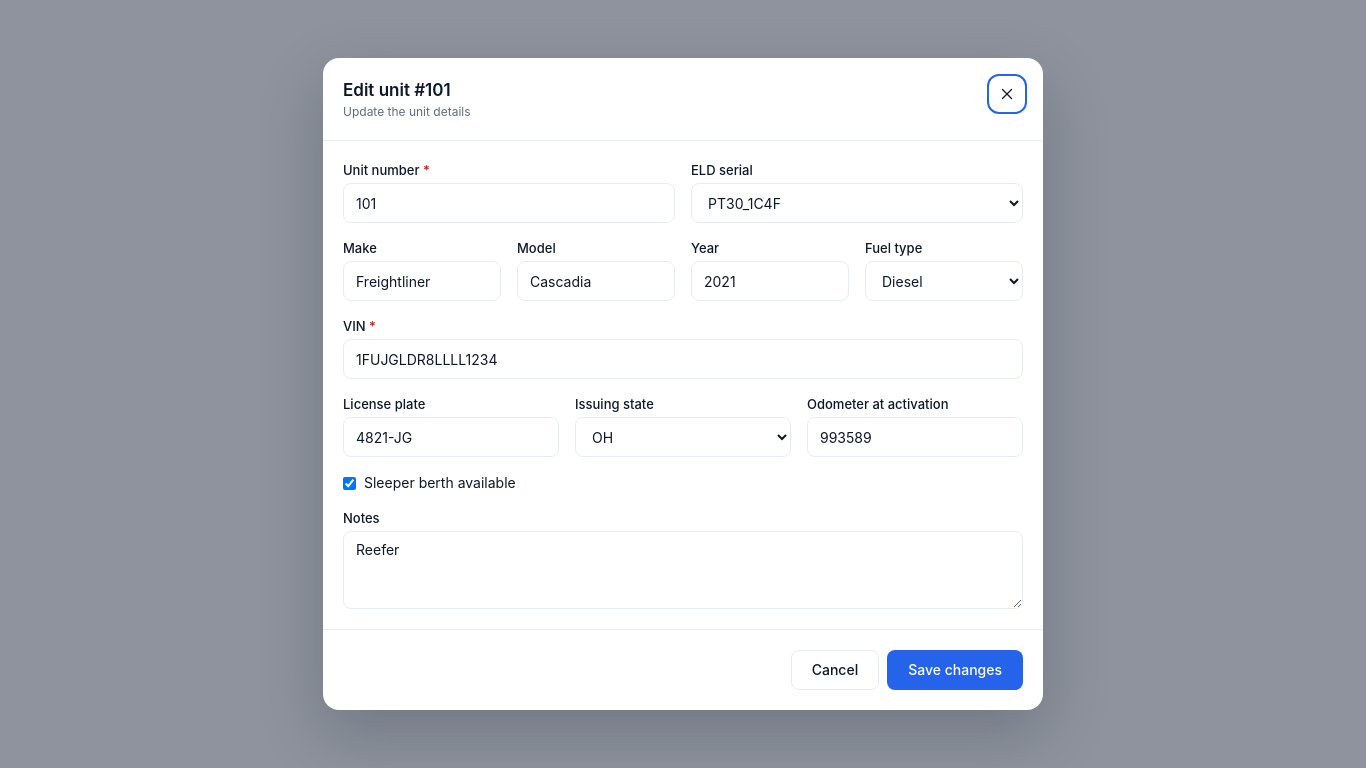
Test case: 11.2 Edit unit — clearing optional fields › sends null for a cleared plate, issuing state, notes and ELD serial
The image size is (1366, 768).
Expected: the dropdown labelled "ELD serial" shows "PT30_1C4F", [691,183,1023,223]
Clear the field labelled "License plate": (451,437) [343,417,559,457]
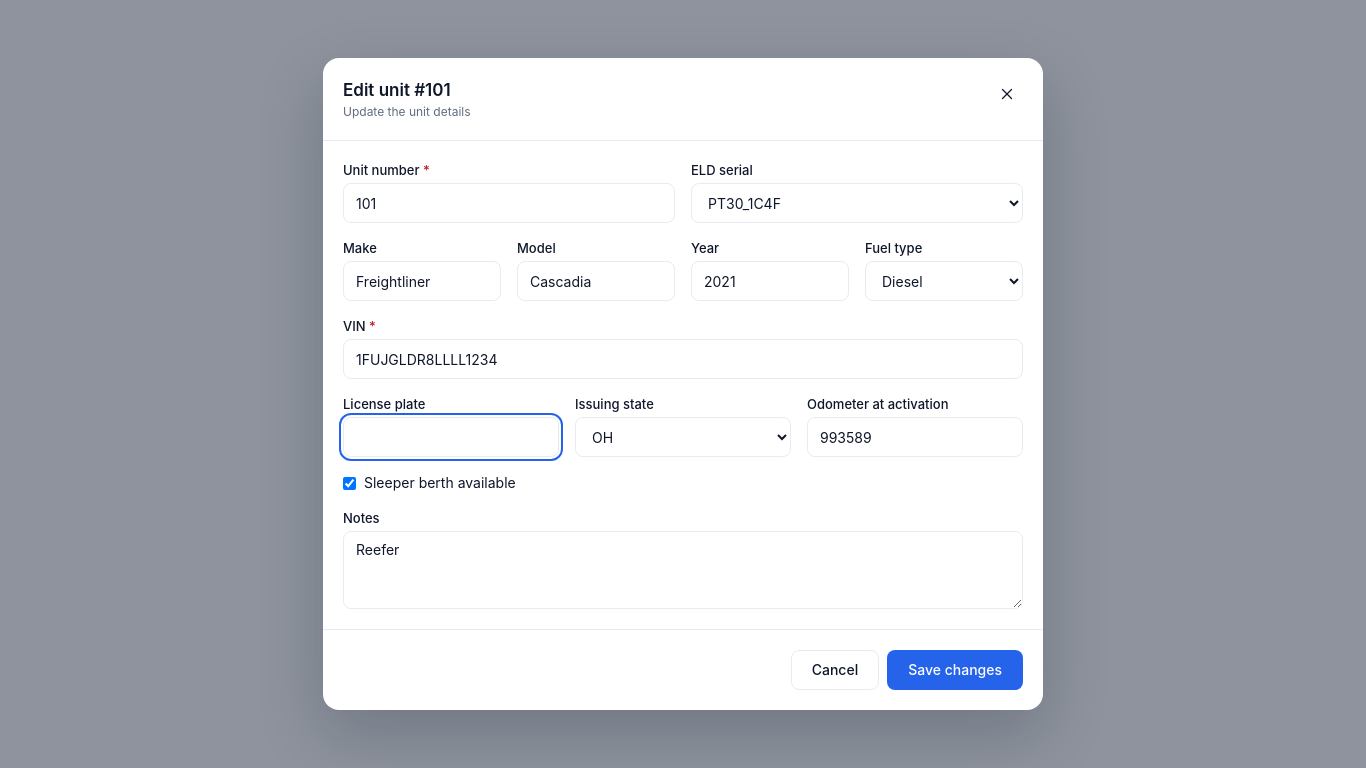
Select "—" in the dropdown labelled "Issuing state": (683,437) [575,417,791,457]
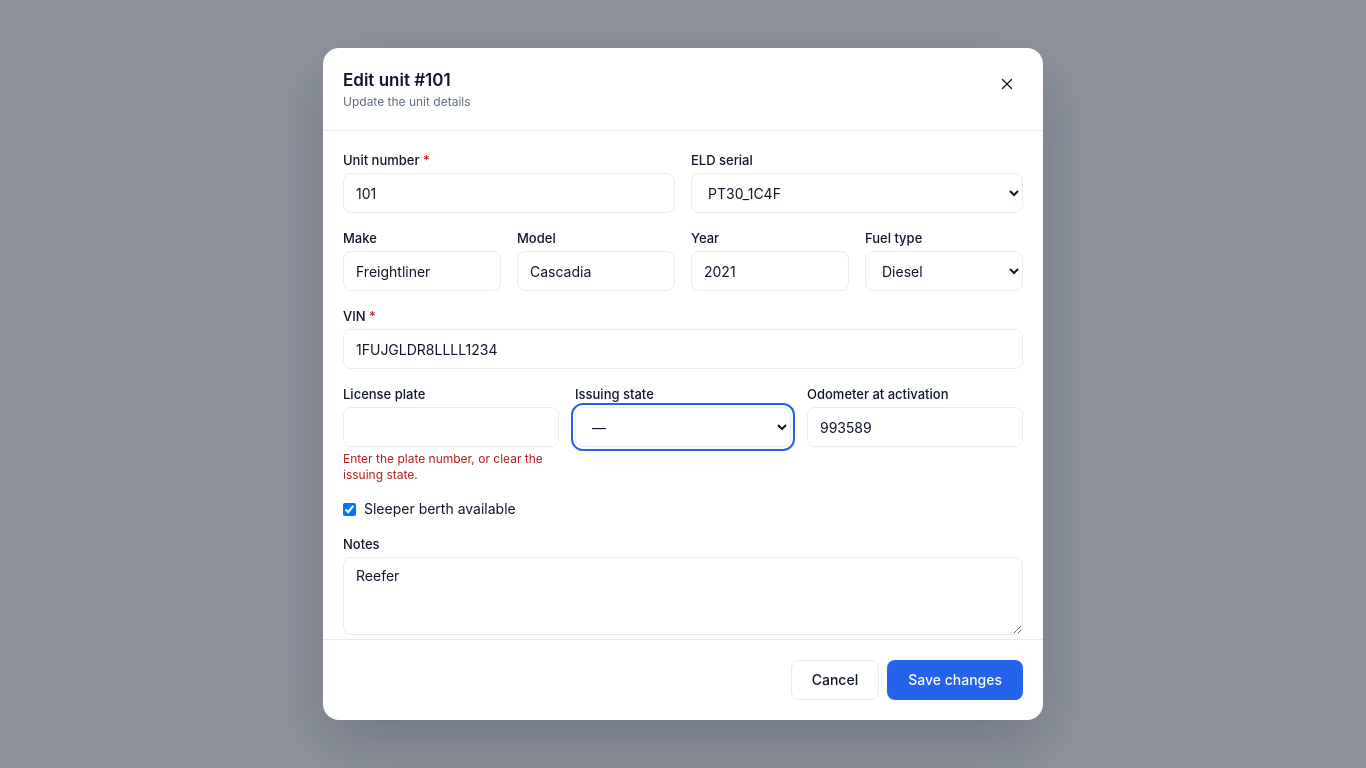
Clear the text box labelled "Notes": (683,596) [343,557,1023,635]
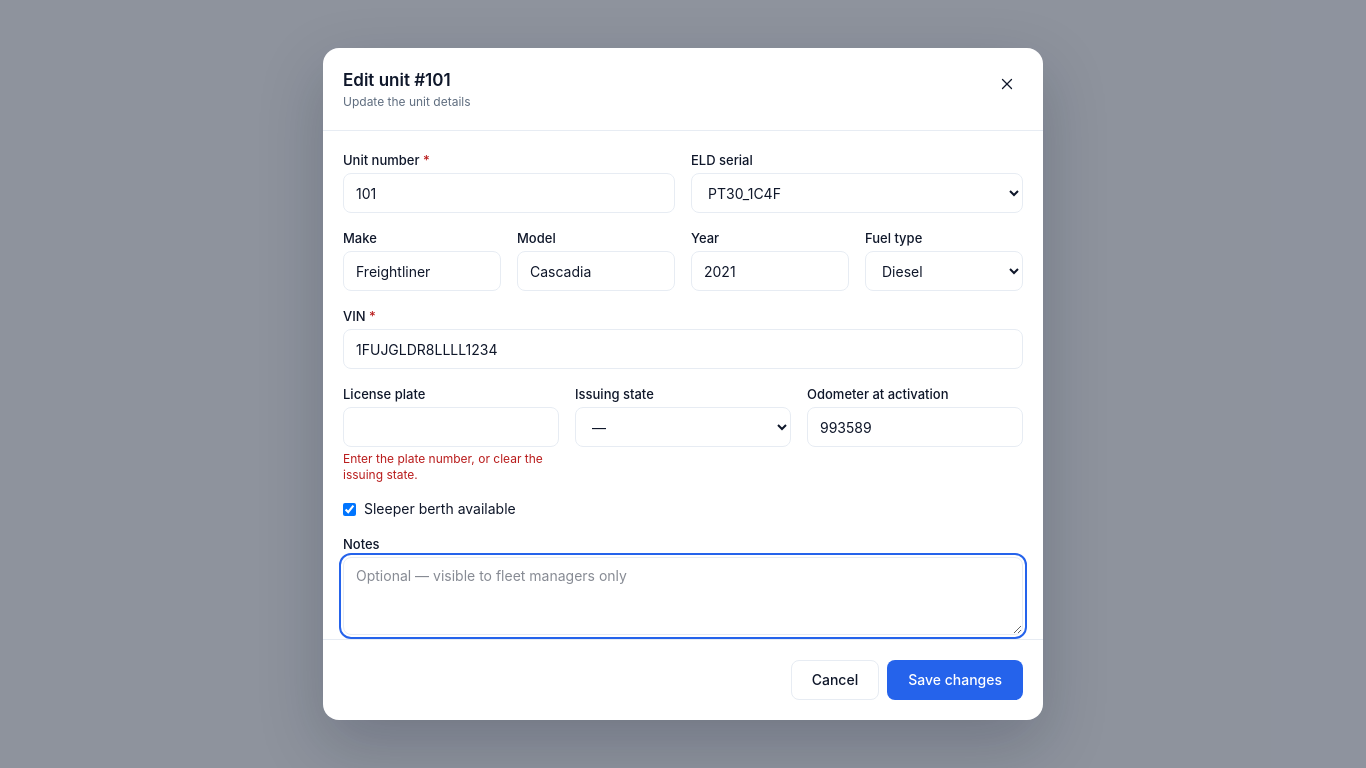
Select "Not paired" in the dropdown labelled "ELD serial": (857,193) [691,173,1023,213]
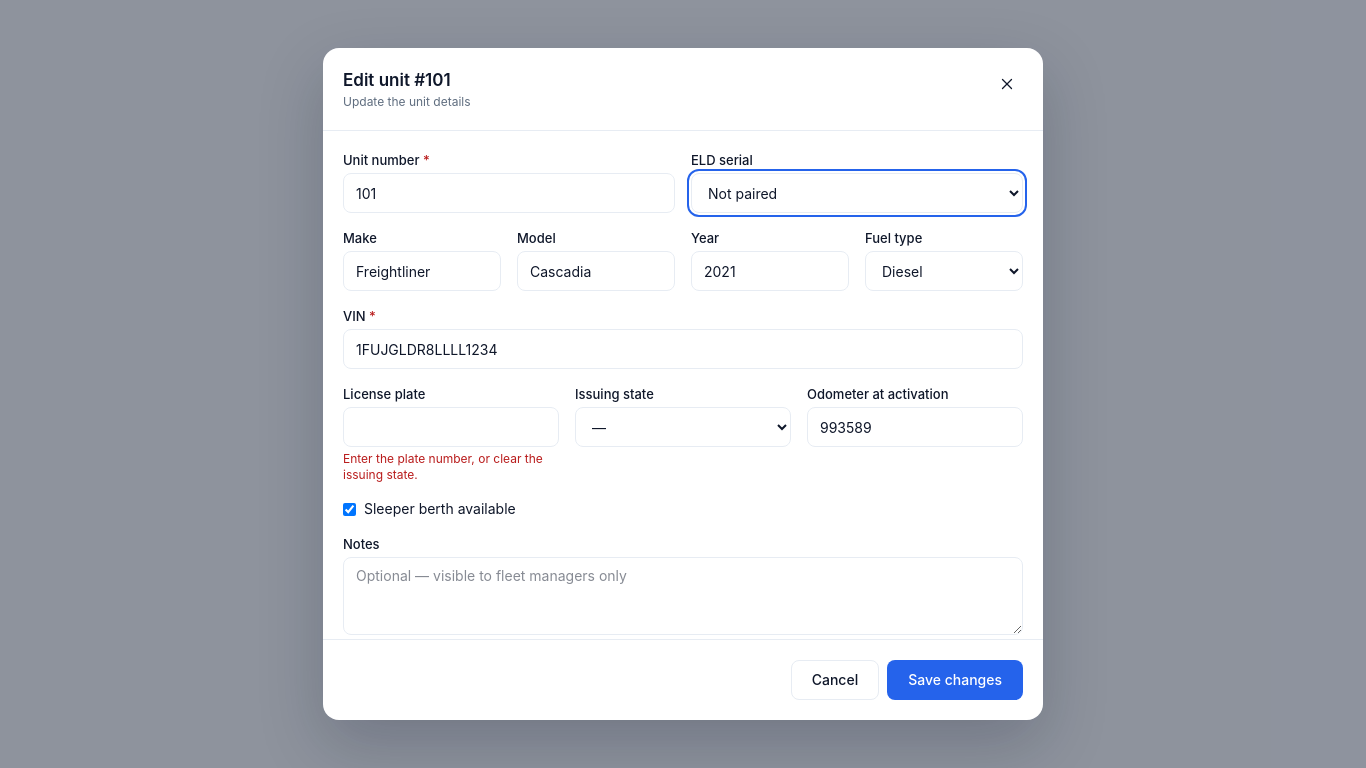
Click the button "Save changes": (955,680) [887,660,1023,700]
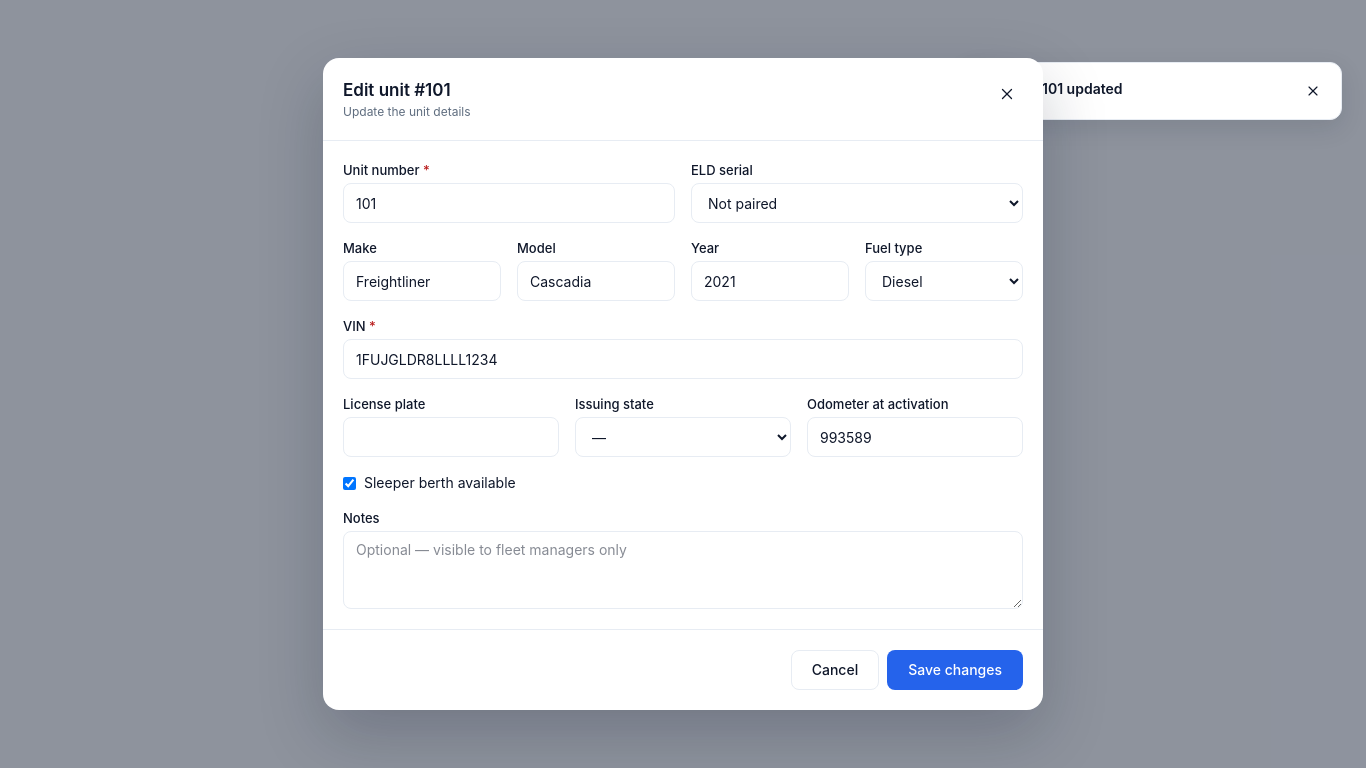
Now the text "Unit 101 updated" is shown, box [1011,80,1122,97]
